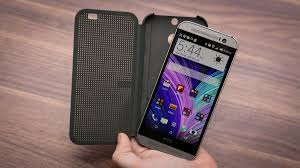htc: (136, 18, 237, 167)
